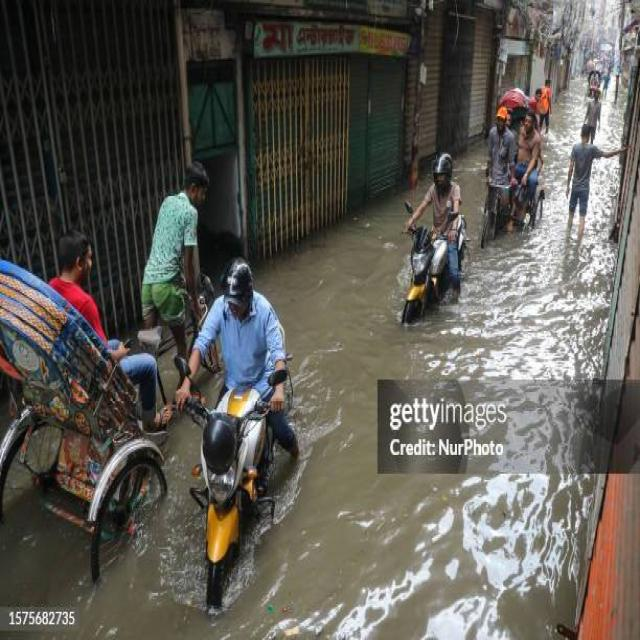bike: (183, 337, 309, 593), (391, 206, 471, 324), (481, 103, 544, 223)
rickshaw: (0, 221, 165, 571)
